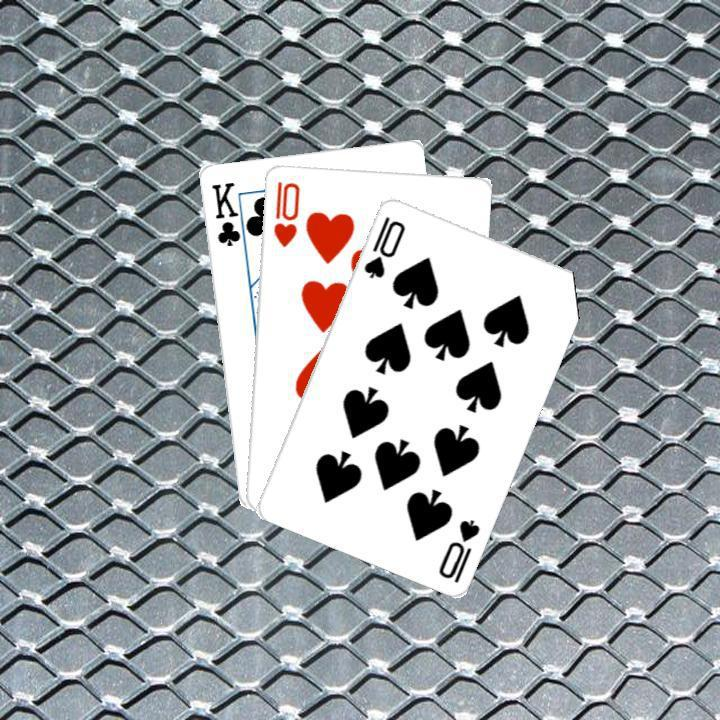10: (433, 514, 482, 584), (359, 211, 407, 280), (268, 177, 301, 249)
K: (207, 177, 249, 253)
